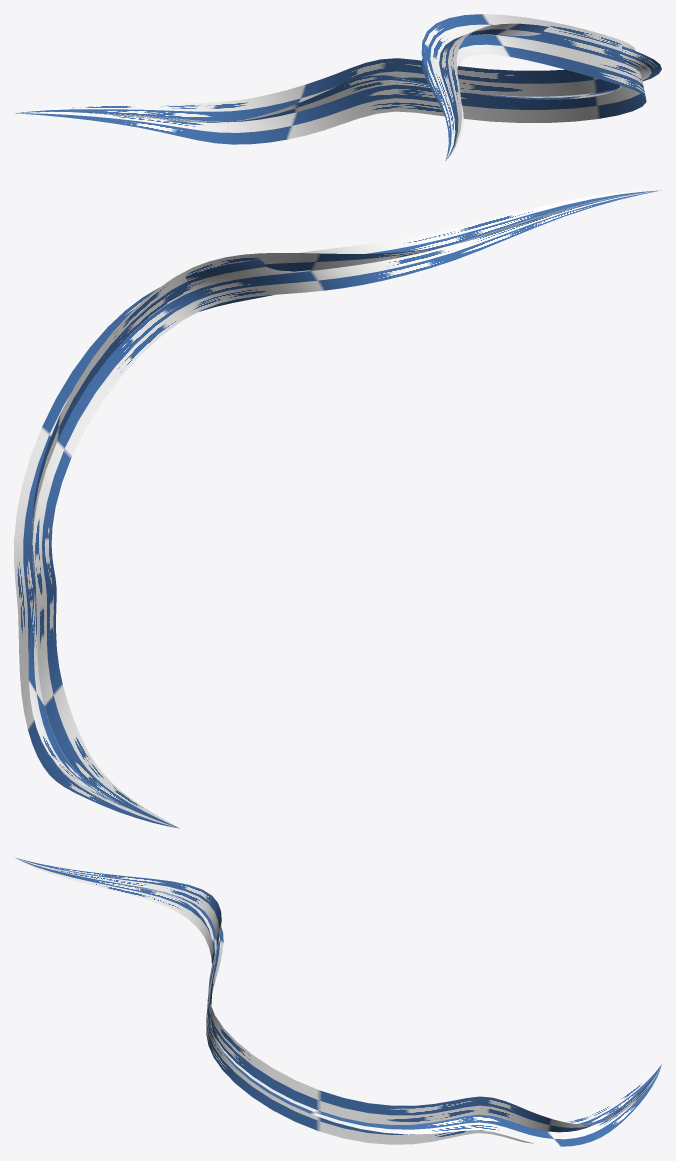
The model's file is Rui_DomeEnd4_2.fbx.
3 renders of one model, top to bottom at view 1: azimuth 30°, elevation 25°; view 2: azimuth 150°, elevation 25°; view 3: azimuth 270°, elevation 25°, orthographic. The views are drawn at different scales.
Parts seen in each view (by area): view 1: SM_e_Plc_P1007_DomeEnd004_02; view 2: SM_e_Plc_P1007_DomeEnd004_02; view 3: SM_e_Plc_P1007_DomeEnd004_02.
Part boxes in pixels (bbox=[...]): SM_e_Plc_P1007_DomeEnd004_02: bbox=[15, 14, 661, 161]; SM_e_Plc_P1007_DomeEnd004_02: bbox=[14, 190, 661, 828]; SM_e_Plc_P1007_DomeEnd004_02: bbox=[14, 857, 661, 1146].
Bounding box in the file's own units: 48.45 × 37.68 × 97.38.
